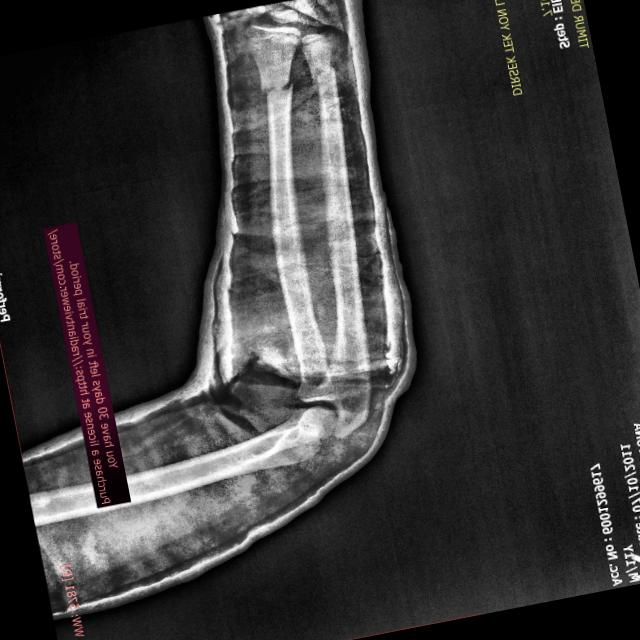Fracture: (252, 76, 299, 102), (303, 62, 340, 84)
